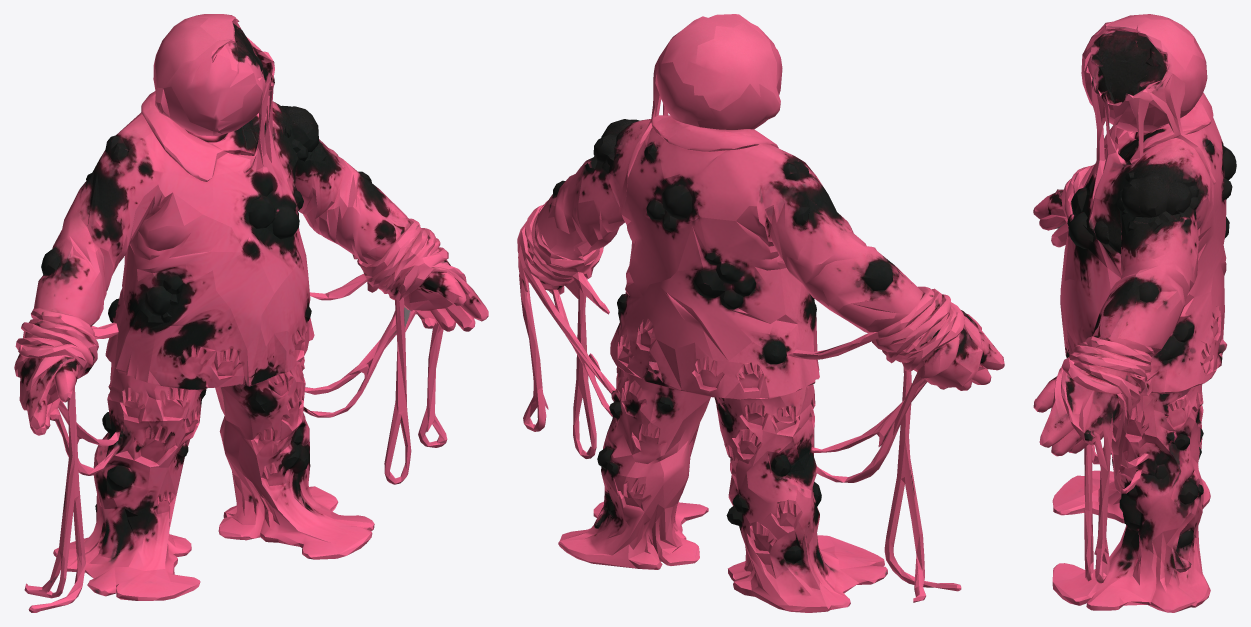
3 renders of one model, left to right at view 1: azimuth 30°, elevation 25°; view 2: azimuth 150°, elevation 25°; view 3: azimuth 270°, elevation 25°, orthographic. The views are drawn at different scales.
Size of the model in its own units: 1.73 by 1.9 by 0.6647.
Materials: 1 (1 with a texture image).
